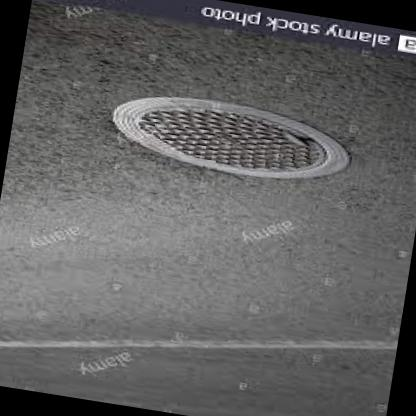manholes: (77, 74, 368, 206)
